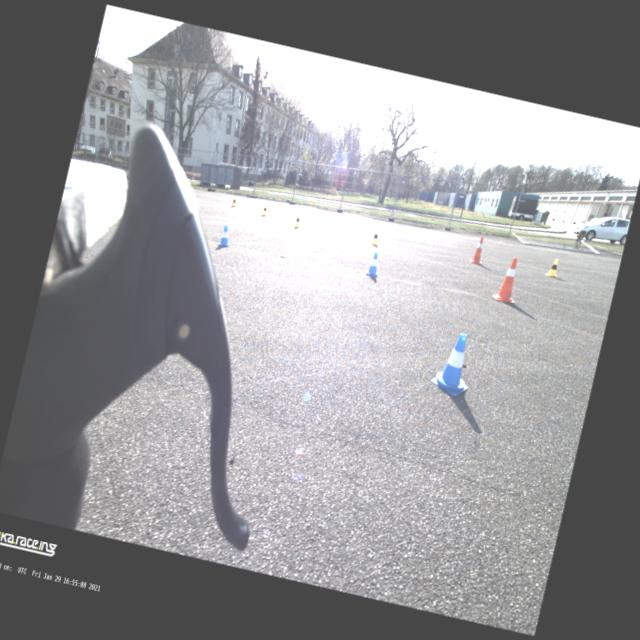blue_cone: (428, 328, 480, 400), (363, 249, 382, 278), (217, 222, 234, 250)
large_orange_cone: (490, 252, 524, 304), (468, 233, 488, 265)
yellow_cone: (544, 256, 560, 278), (370, 228, 380, 246), (292, 214, 302, 228), (260, 204, 268, 217), (230, 195, 238, 208)
